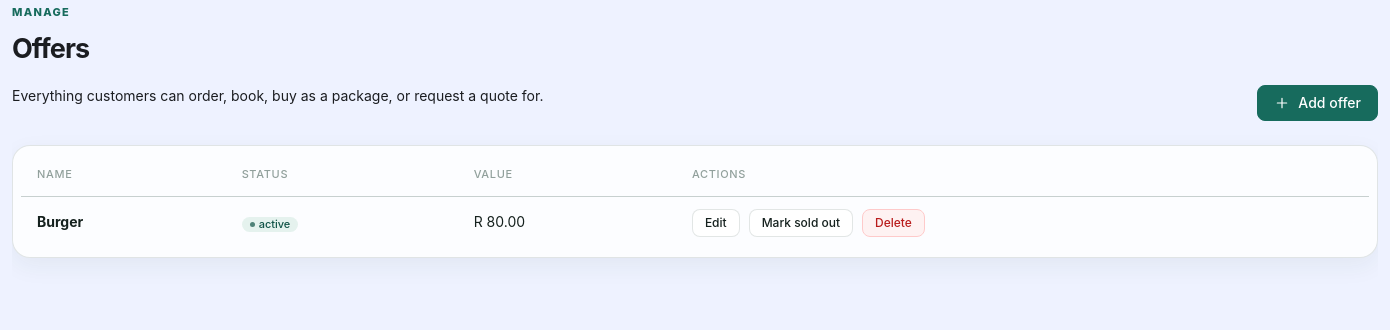
toggles an offer's availability from the table row
Click the button "Mark sold out": (801, 223) [749, 209, 853, 237]
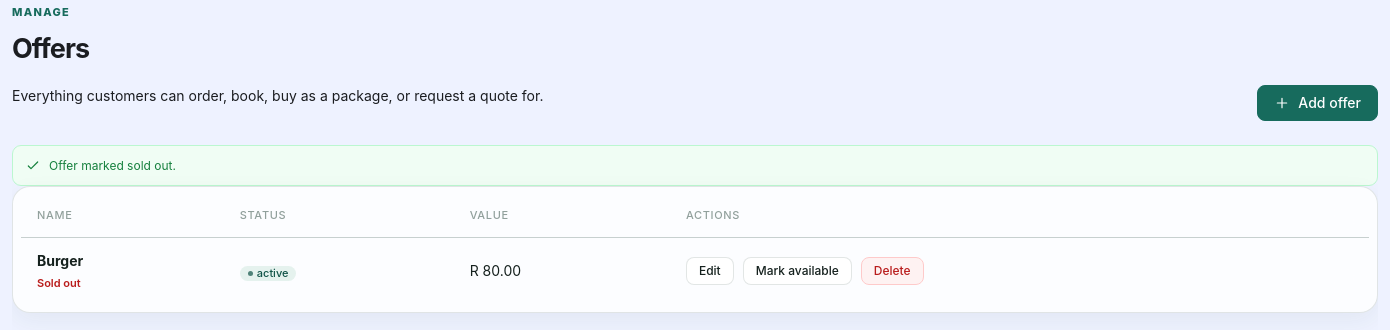
Expected: the button "Mark available" is shown, [743, 257, 852, 285]
